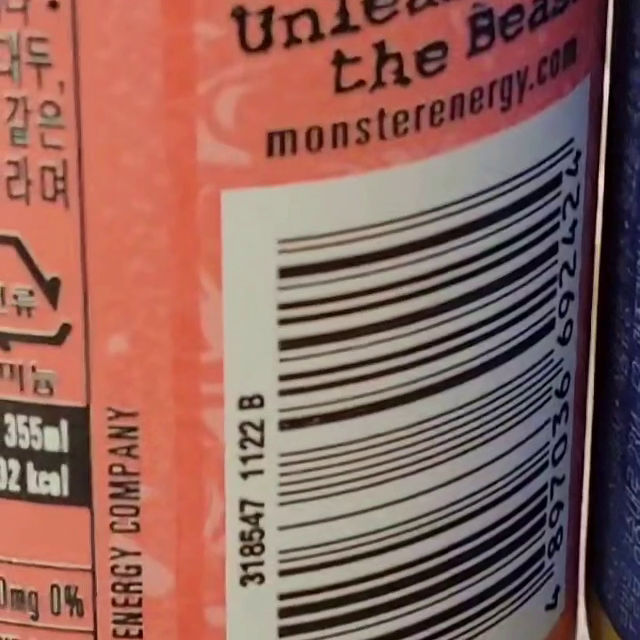Can: (1, 237, 70, 352)
